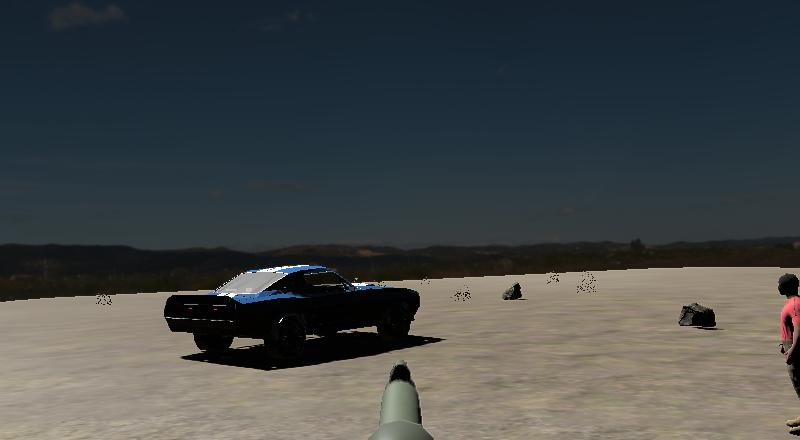Human: (775, 270, 800, 438)
car: (159, 259, 426, 359)
